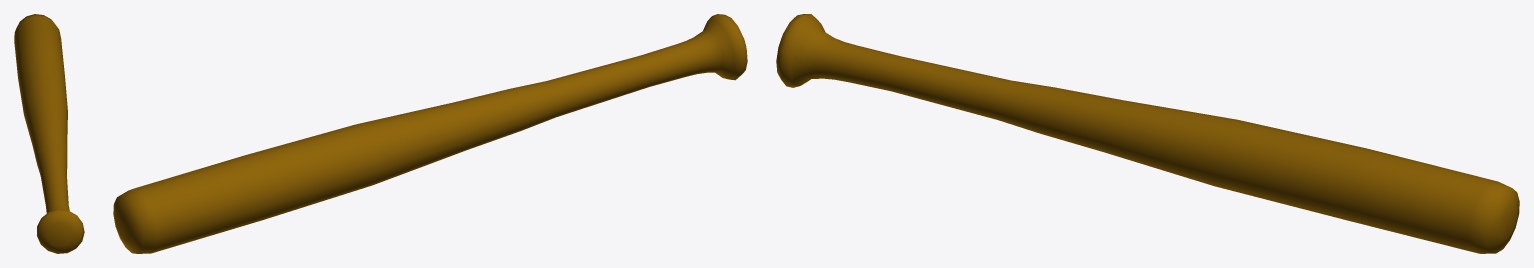
Rendered from bate.fbx.
3 renders of one model, left to right at view 1: azimuth 30°, elevation 25°; view 2: azimuth 150°, elevation 25°; view 3: azimuth 270°, elevation 25°, orthographic. The views are drawn at different scales.
Visible parts, largest first — view 1: Bate; view 2: Bate; view 3: Bate.
Part boxes in pixels (bbox=[...]): Bate: bbox=[14, 14, 84, 253]; Bate: bbox=[113, 14, 747, 253]; Bate: bbox=[776, 14, 1519, 253].
Size of what is drawn, in the model's own units: 623 by 138 by 1088.
